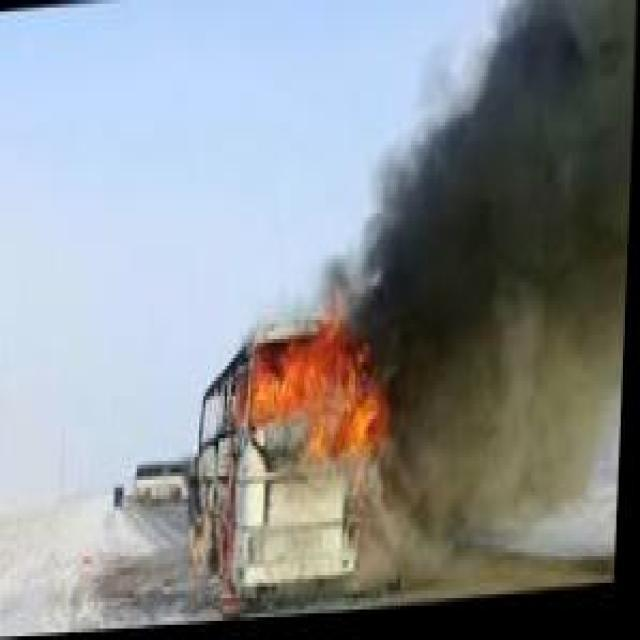Fire: (240, 304, 409, 472)
Smoke: (379, 0, 638, 335), (400, 286, 627, 560), (353, 464, 439, 610)
